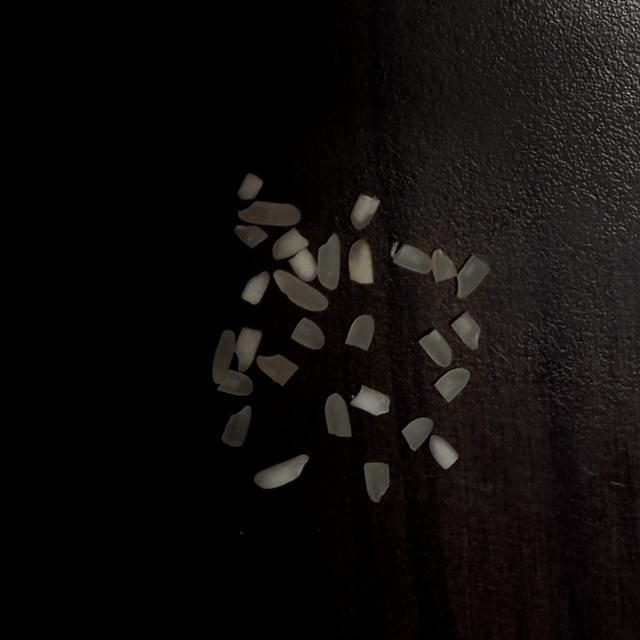Broken: (457, 255, 491, 298), (256, 354, 299, 386), (434, 368, 471, 404), (221, 404, 252, 446), (418, 330, 452, 367), (392, 243, 432, 274), (350, 385, 391, 415), (348, 238, 374, 284), (235, 328, 262, 372), (325, 393, 352, 437), (272, 228, 308, 260), (451, 312, 481, 350), (402, 417, 434, 452), (350, 193, 380, 230), (291, 318, 325, 350), (345, 315, 375, 351), (364, 462, 390, 503), (240, 271, 271, 305), (429, 435, 459, 469), (289, 247, 318, 282), (217, 368, 253, 396), (432, 249, 457, 282), (234, 226, 268, 248), (238, 172, 263, 201)
Full: (273, 269, 329, 312), (253, 455, 310, 489), (238, 201, 301, 226), (212, 329, 236, 384), (318, 233, 340, 290)
